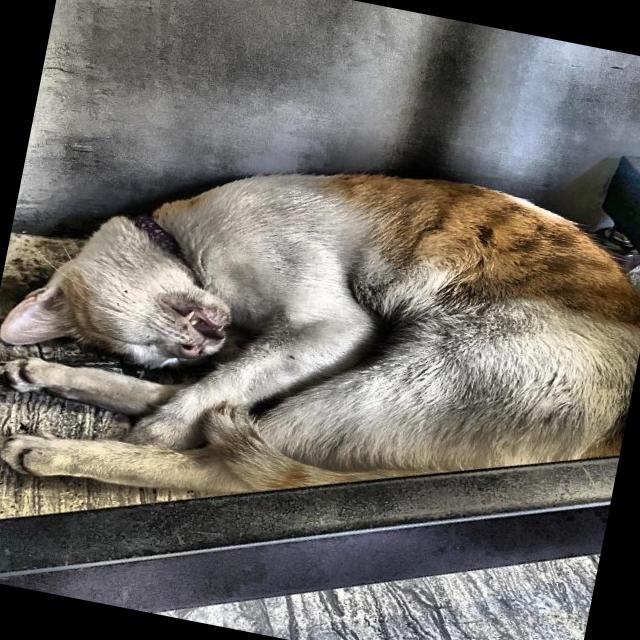Healthy skin: (156, 365, 334, 496), (444, 249, 602, 363), (0, 254, 115, 364), (262, 207, 364, 291)
